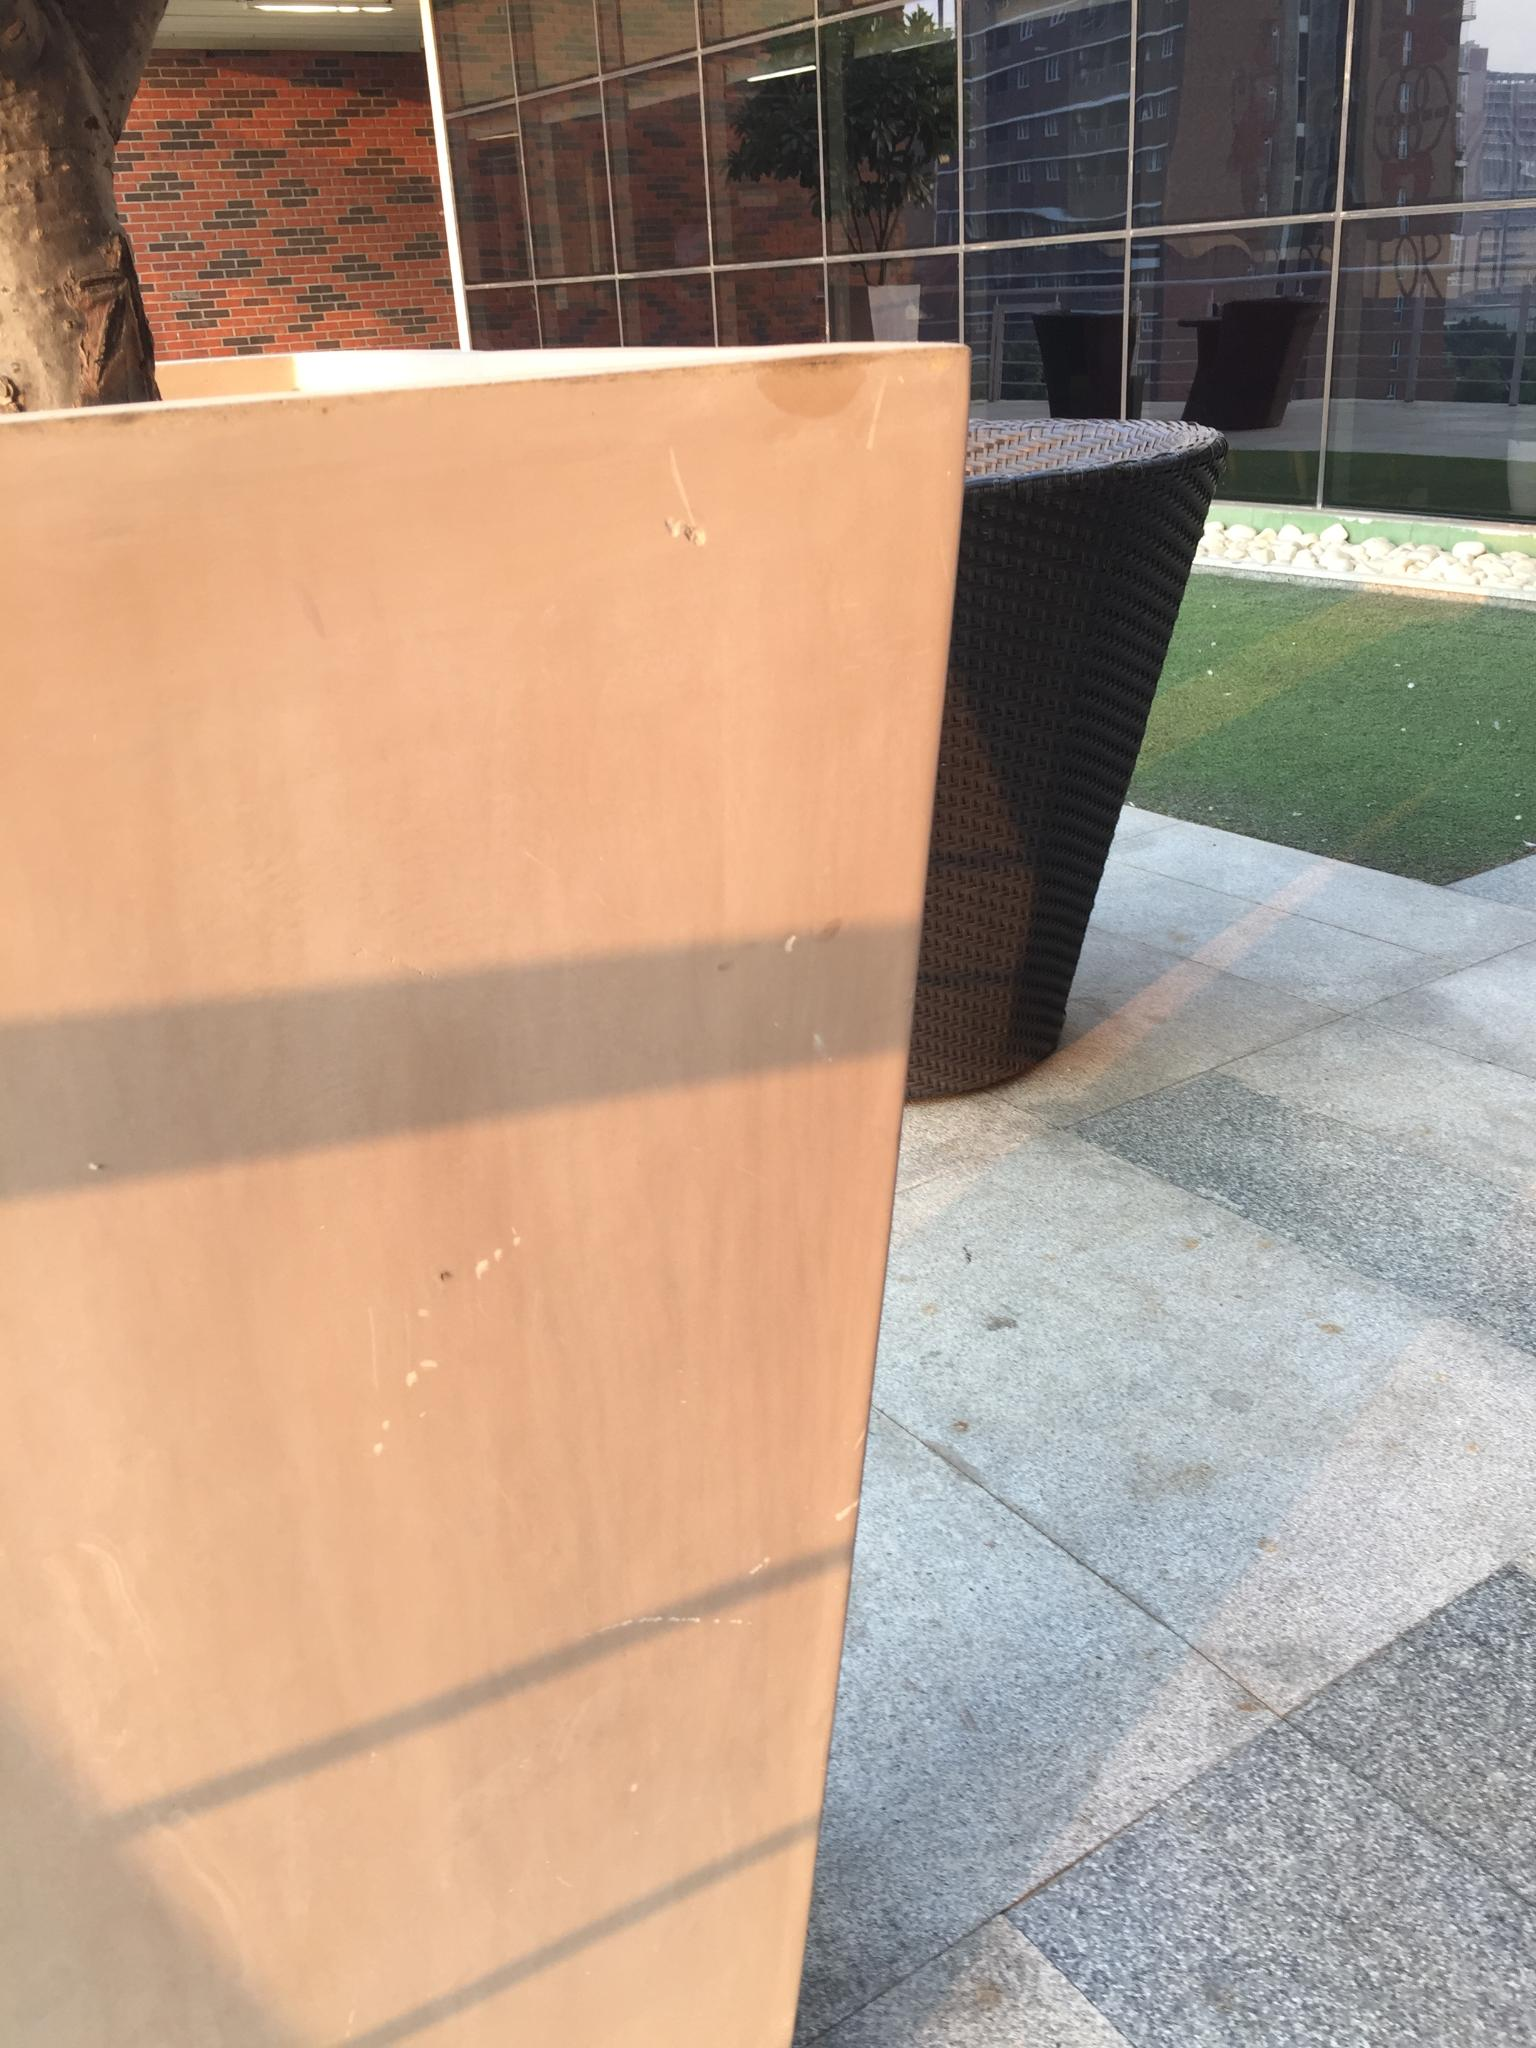chair: (589, 377, 1238, 1113)
